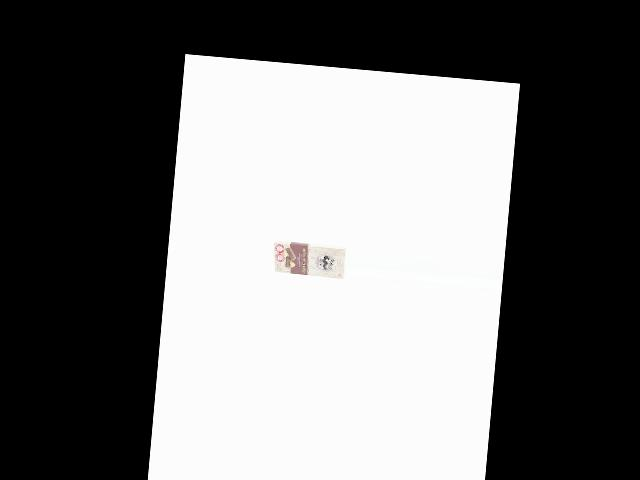chocolate: (270, 234, 346, 280)
